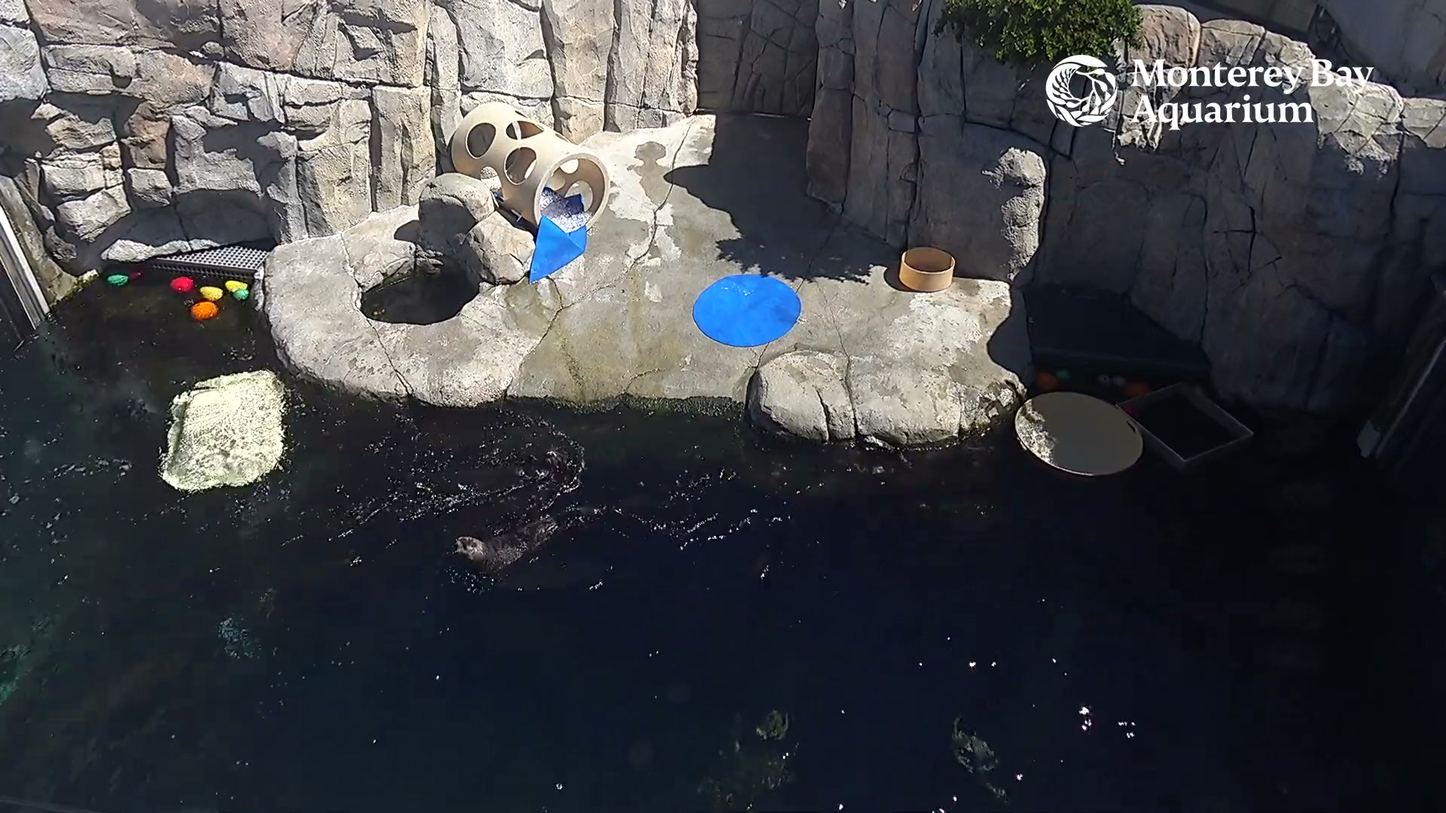Southern Sea Otter: (421, 455, 634, 611)
